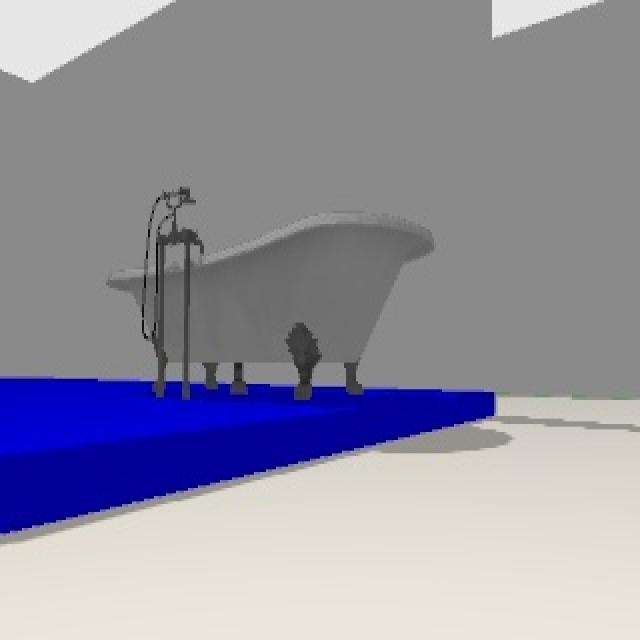bathtub: (112, 178, 439, 406)
